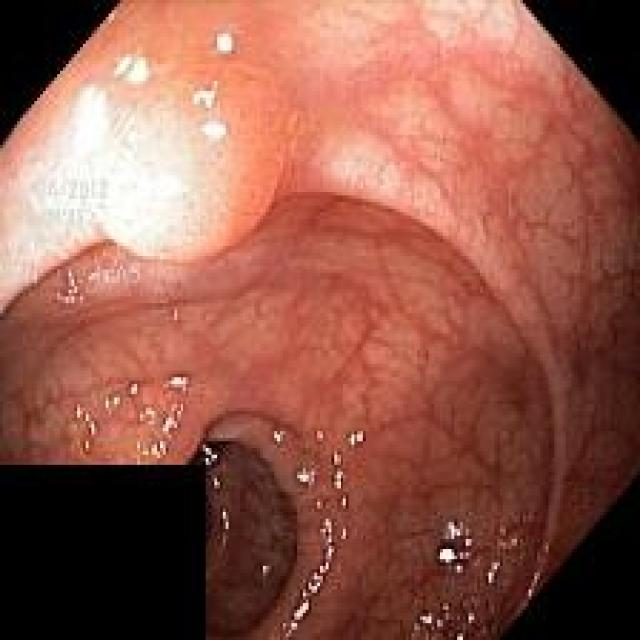Polyps: (100, 59, 286, 260)
